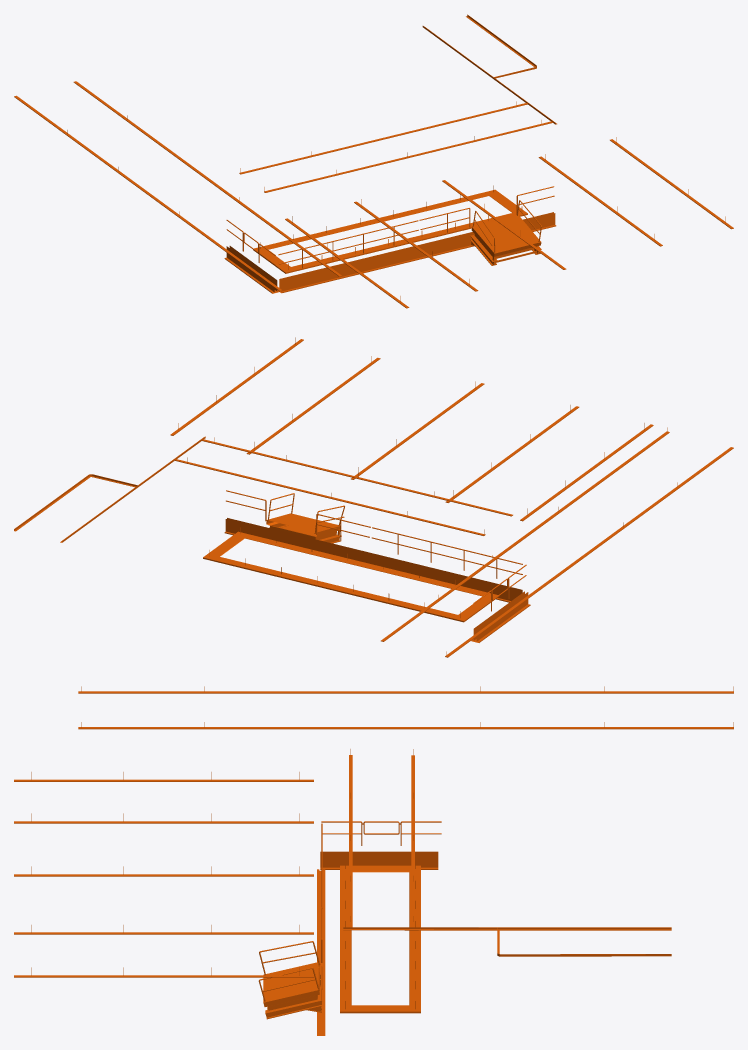
Rendered from SteelExtraCombined.fbx.
The picture shows the model from 3 angles, top to bottom: view 1: azimuth 30°, elevation 25°; view 2: azimuth 150°, elevation 25°; view 3: azimuth 270°, elevation 25°; orthographic projection. The views are drawn at different scales.
Visible parts, largest first — view 1: SteelExtraCombined; view 2: SteelExtraCombined; view 3: SteelExtraCombined.
Part boxes in pixels (bbox=[...]): SteelExtraCombined: bbox=[14, 14, 733, 308]; SteelExtraCombined: bbox=[14, 337, 733, 657]; SteelExtraCombined: bbox=[14, 686, 733, 1035].
Bounding box in the file's own units: 31.51 × 7.47 × 37.18.
